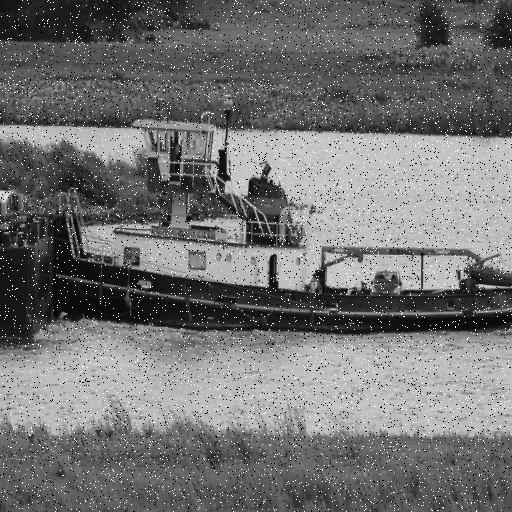tugboat: (52, 91, 512, 348)
